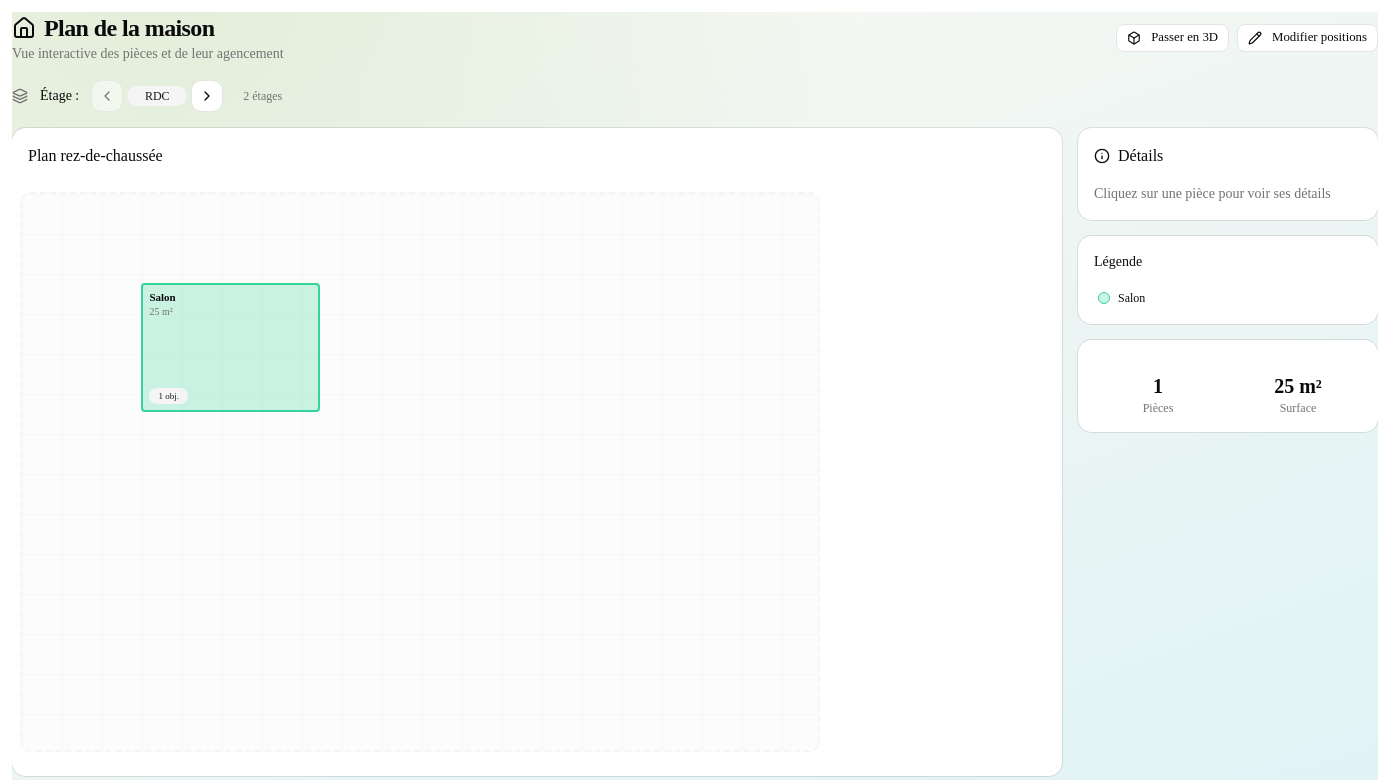
Test: PageVisualisation › active le mode édition
The width and height of the screenshot is (1390, 780).
Click the button "Modifier positions": (1308, 38) [1237,24,1378,52]
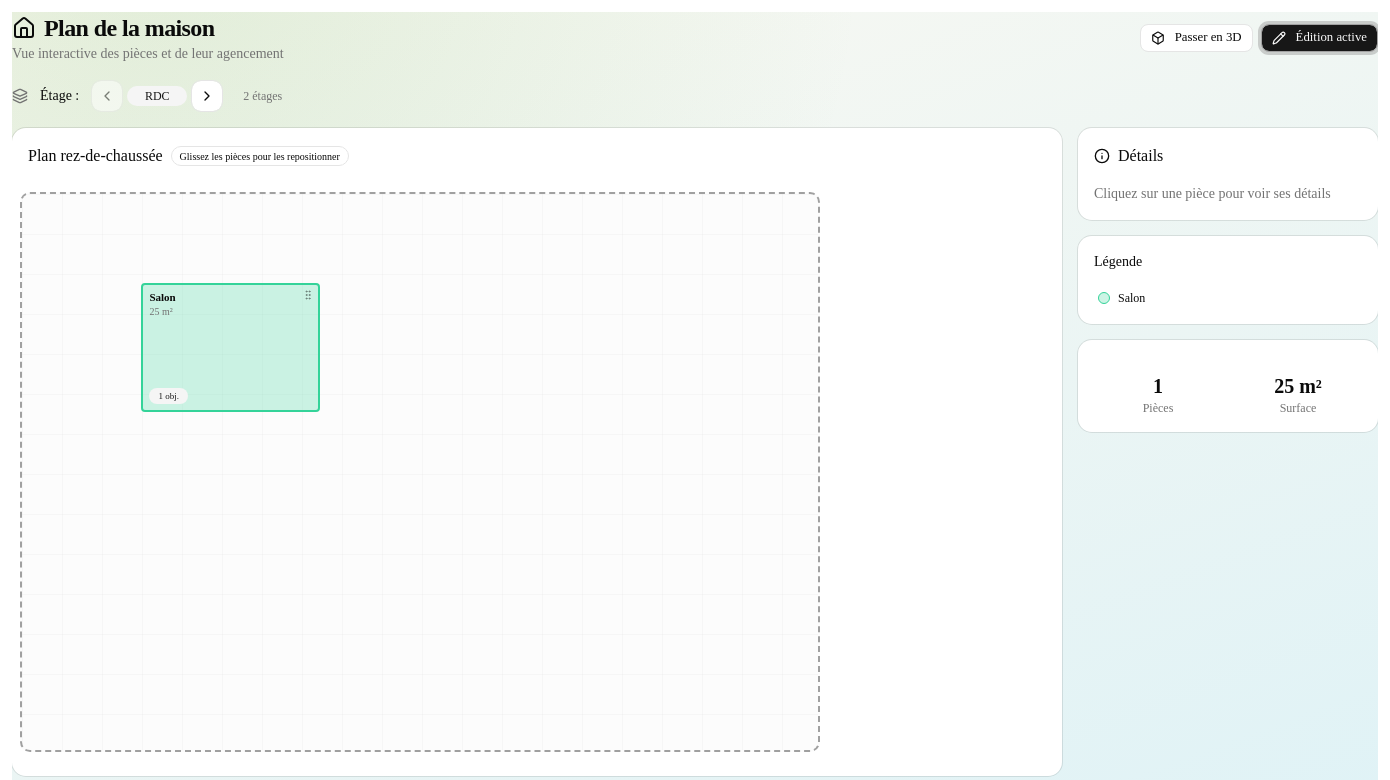
Expected: the button "Édition active" is shown, [1261,24,1378,52]
